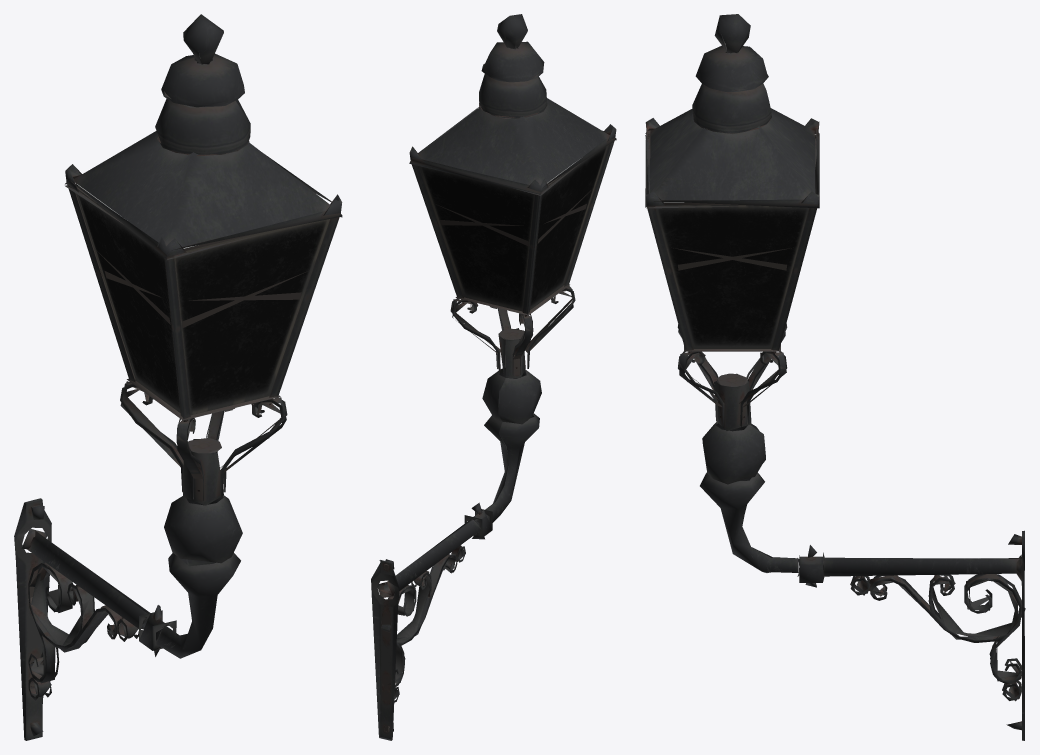
The model's file is lamp_b.glb.
The picture shows the model from 3 angles, left to right: view 1: azimuth 30°, elevation 25°; view 2: azimuth 150°, elevation 25°; view 3: azimuth 270°, elevation 25°; orthographic projection. The views are drawn at different scales.
Visible parts, largest first — view 1: street_lamp_02; view 2: street_lamp_02; view 3: street_lamp_02.
Boxes of the visible parts, left/top/right/bottom form: street_lamp_02: left=14, top=14, right=342, bottom=740; street_lamp_02: left=371, top=14, right=616, bottom=740; street_lamp_02: left=645, top=14, right=1025, bottom=740.
Bounding box in the file's own units: 0.3656 × 1.68 × 0.7978.
3 materials, 3 textured.
